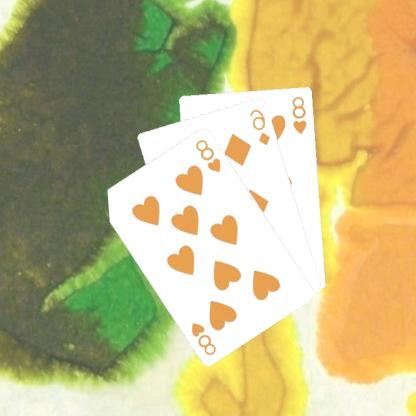6D: (249, 106, 273, 146)
8H: (190, 319, 220, 357), (194, 136, 224, 173), (290, 94, 310, 135)
